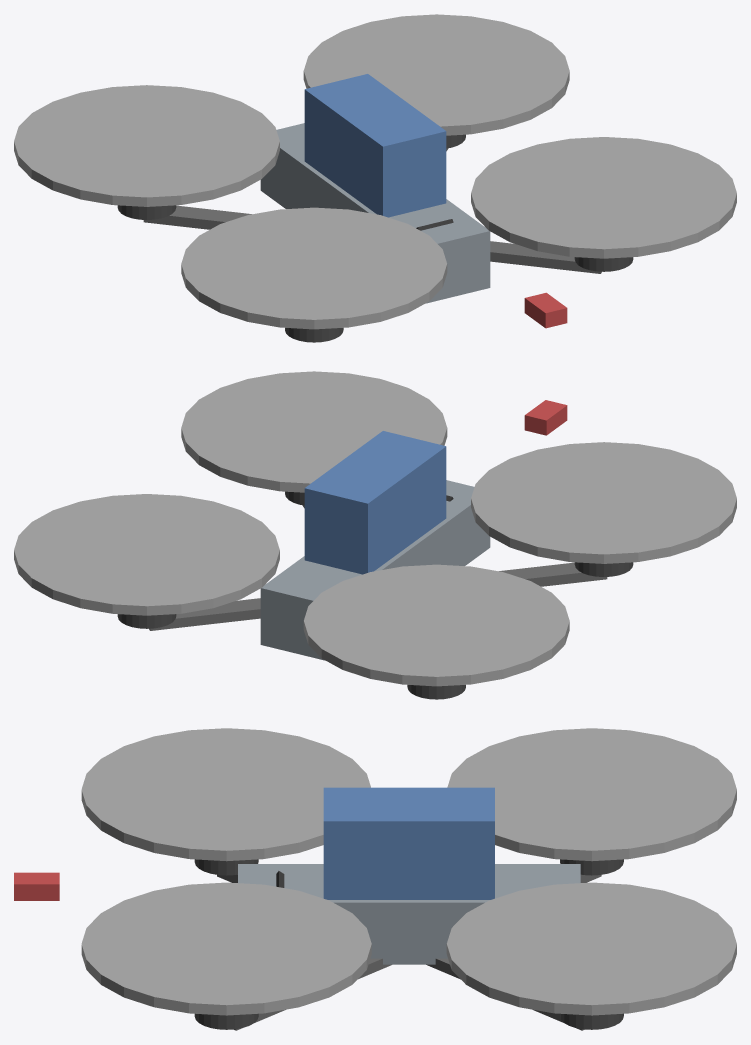
The model's file is reference_5in.drone.glb.
3 views of the same model, one above another, from view 1: azimuth 30°, elevation 25°; view 2: azimuth 150°, elevation 25°; view 3: azimuth 270°, elevation 25° (orthographic). The views are drawn at different scales.
Visible parts, largest first — view 1: prop1, prop2, prop4, prop3, battery, frame_body, arm4, arm1, nose_marker, motor4, motor1, motor2; view 2: prop2, prop1, prop3, prop4, battery, frame_body, arm3, arm2, nose_marker, motor3, motor2, motor1; view 3: prop4, prop3, prop2, prop1, battery, frame_body, nose_marker, motor3, motor4, motor2, motor1.
Boxes of the visible parts, left/top/right/bottom form: prop1: left=14, top=85, right=279, bottom=206; prop2: left=181, top=207, right=447, bottom=329; prop4: left=471, top=137, right=736, bottom=258; prop3: left=303, top=14, right=569, bottom=135; battery: left=304, top=74, right=446, bottom=217; frame_body: left=260, top=123, right=490, bottom=303; arm4: left=490, top=241, right=601, bottom=273; arm1: left=143, top=205, right=251, bottom=229; nose_marker: left=524, top=292, right=567, bottom=328; motor4: left=574, top=257, right=633, bottom=271; motor1: left=117, top=205, right=176, bottom=219; motor2: left=285, top=328, right=343, bottom=342; prop2: left=471, top=442, right=736, bottom=563; prop1: left=303, top=564, right=569, bottom=686; prop3: left=14, top=494, right=279, bottom=615; prop4: left=181, top=371, right=447, bottom=492; battery: left=304, top=431, right=446, bottom=574; frame_body: left=260, top=480, right=490, bottom=660; arm3: left=149, top=598, right=260, bottom=630; arm2: left=499, top=562, right=607, bottom=586; nose_marker: left=524, top=400, right=567, bottom=435; motor3: left=117, top=614, right=176, bottom=628; motor2: left=574, top=562, right=633, bottom=576; motor1: left=407, top=685, right=465, bottom=699; prop4: left=81, top=882, right=371, bottom=1015; prop3: left=446, top=882, right=736, bottom=1015; prop2: left=81, top=728, right=370, bottom=861; prop1: left=447, top=728, right=736, bottom=861; battery: left=323, top=787, right=494, bottom=899; frame_body: left=238, top=864, right=580, bottom=964; nose_marker: left=14, top=872, right=59, bottom=900; motor3: left=560, top=1013, right=623, bottom=1029; motor4: left=194, top=1013, right=258, bottom=1029; motor2: left=194, top=859, right=258, bottom=875; motor1: left=560, top=859, right=623, bottom=875.
Size of the model in its own units: 0.2868 by 0.07 by 0.3164.
